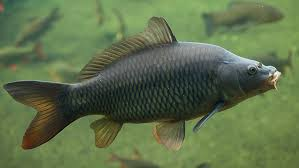carp: (3, 15, 282, 154)
